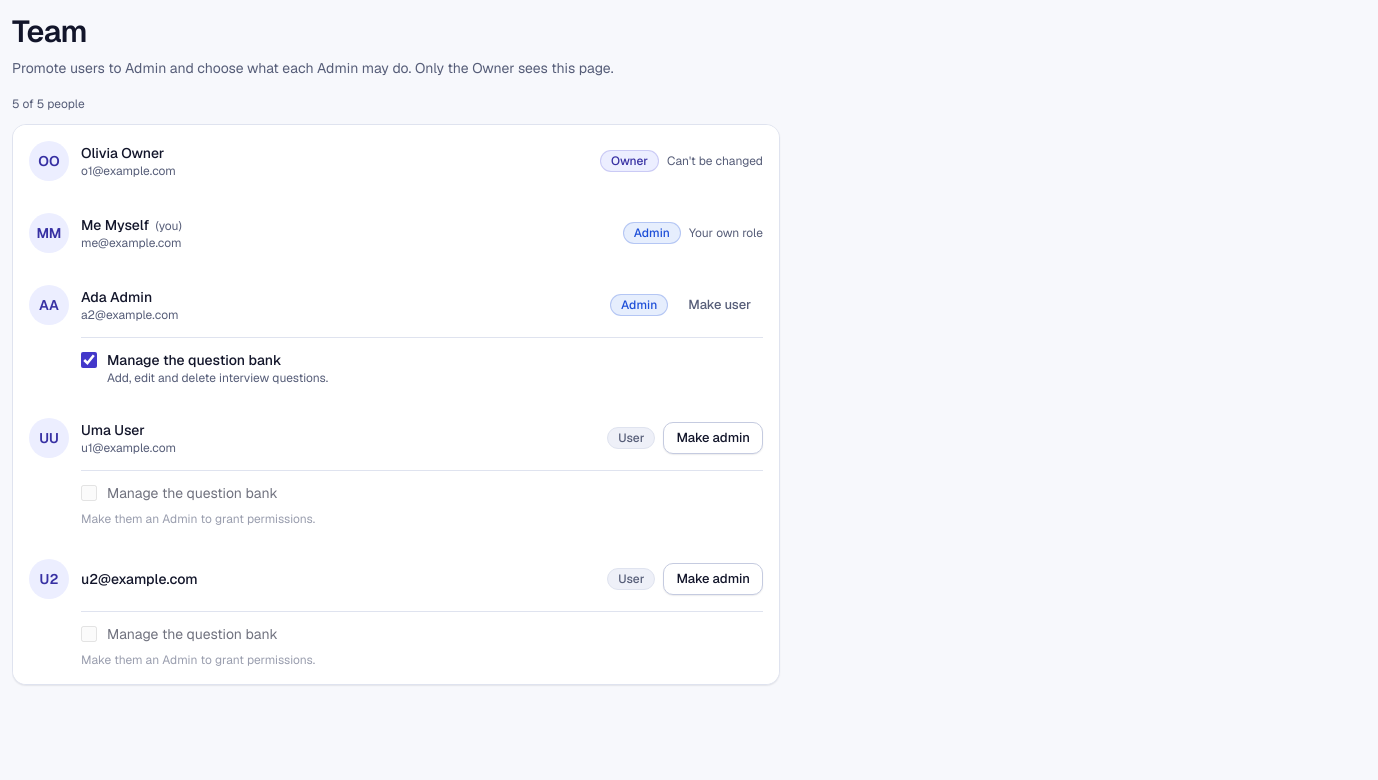
Test: TeamManager › promotes a user to Admin and enables the permissions
The width and height of the screenshot is (1378, 780).
Check: the text "Uma User" is shown, box [81,421,145,439]
Click the button with aria-label "Make Uma User an Admin" at point(713, 438), box [663,422,763,454]
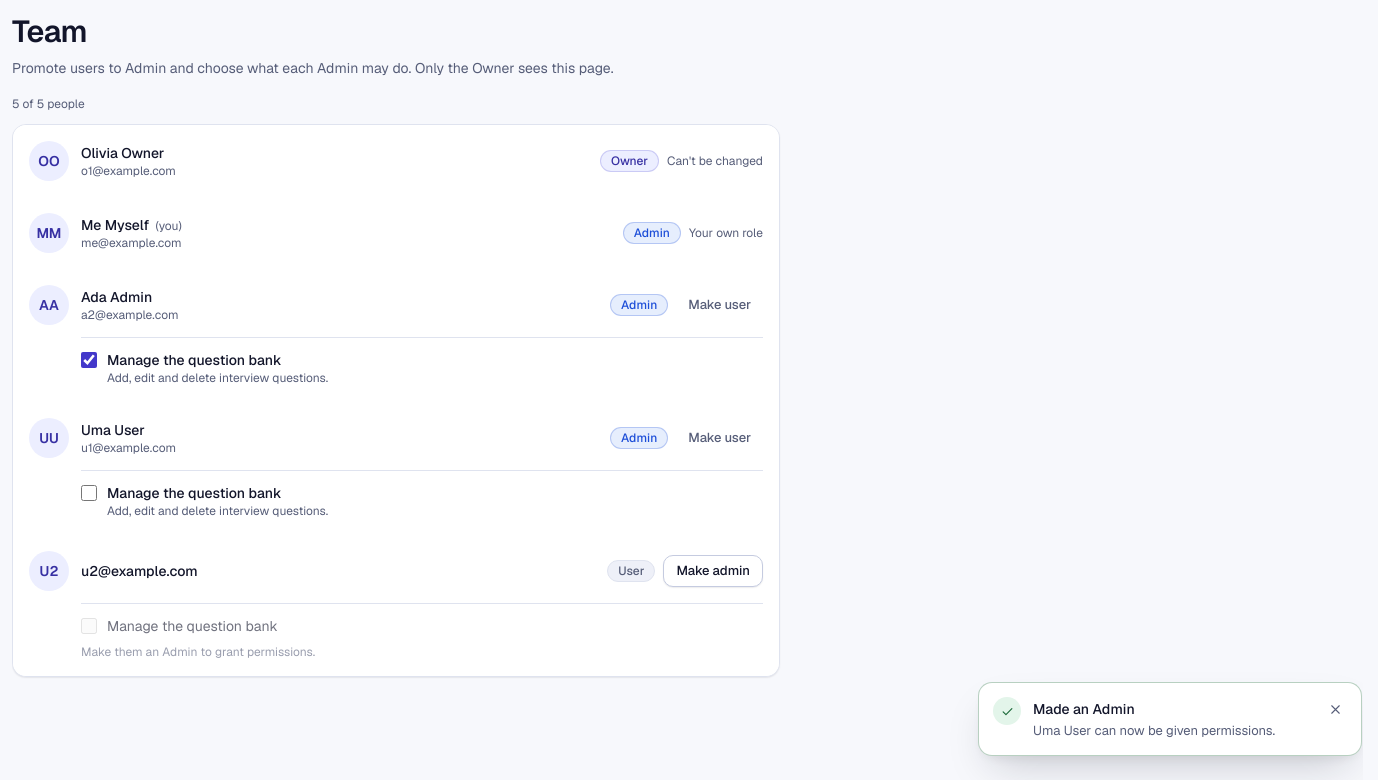
Check: the checkbox labelled "Manage the question bank" below "UU" is enabled, box [81,485,97,501]
Check: the button with aria-label "Make Uma User a User" is shown, box [676,422,763,454]
Check: the text "Made an Admin" is shown, box [1033,700,1135,718]
